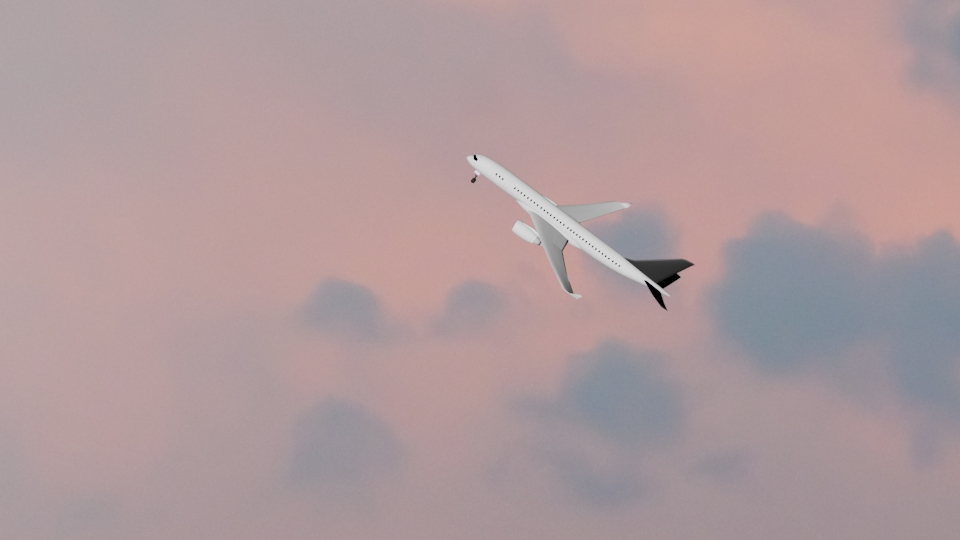plane: (465, 151, 694, 314)
